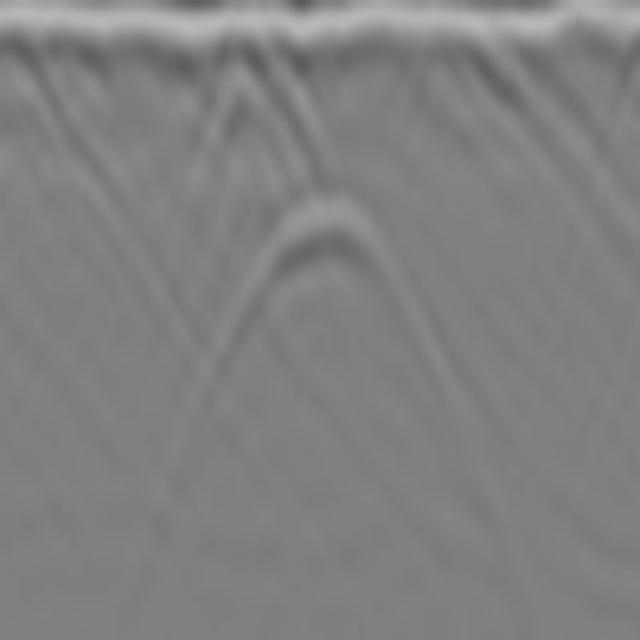hyperbola: (196, 184, 440, 447)
